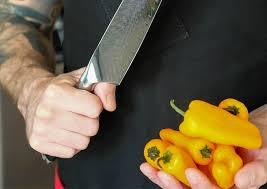Knife: (0, 0, 267, 189), (26, 66, 116, 157), (73, 0, 162, 90)
